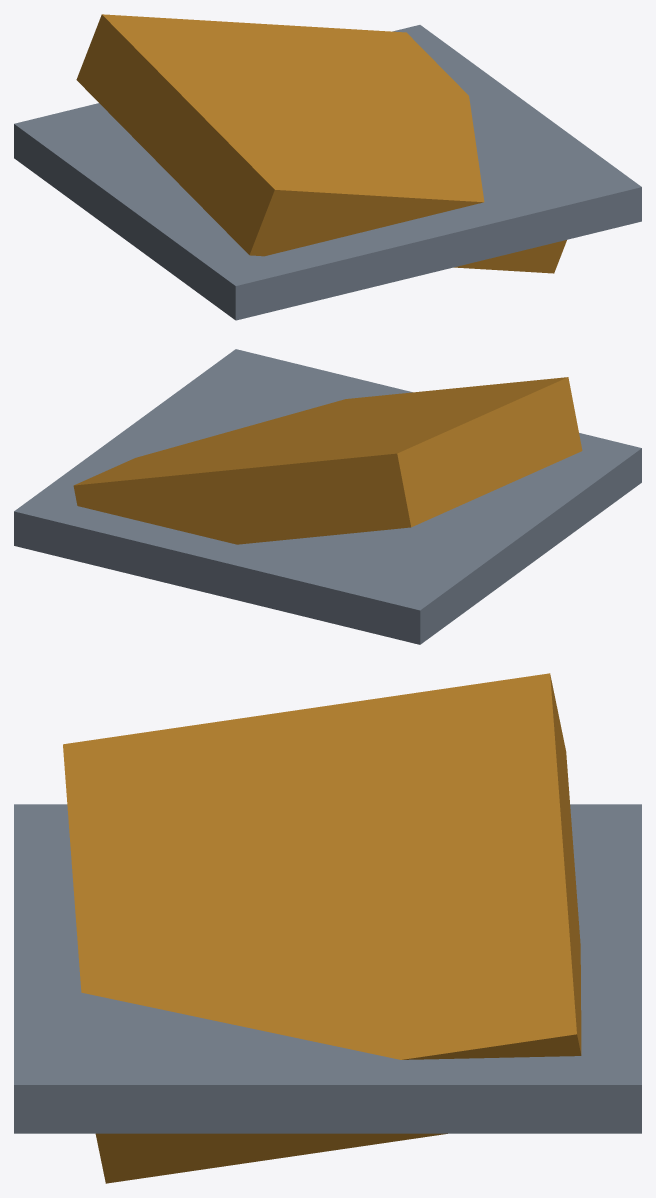
File: ranch-house-garage-wreck.glb
The picture shows the model from 3 angles, top to bottom: view 1: azimuth 30°, elevation 25°; view 2: azimuth 150°, elevation 25°; view 3: azimuth 270°, elevation 25°; orthographic projection. The views are drawn at different scales.
Visible parts, largest first — view 1: Root; view 2: Root; view 3: Root.
Boxes of the visible parts, left/top/right/bottom form: Root: left=14, top=14, right=641, bottom=320; Root: left=14, top=349, right=641, bottom=644; Root: left=14, top=673, right=641, bottom=1183.
Size of the model in its own units: 7.4 by 3.77 by 7.
